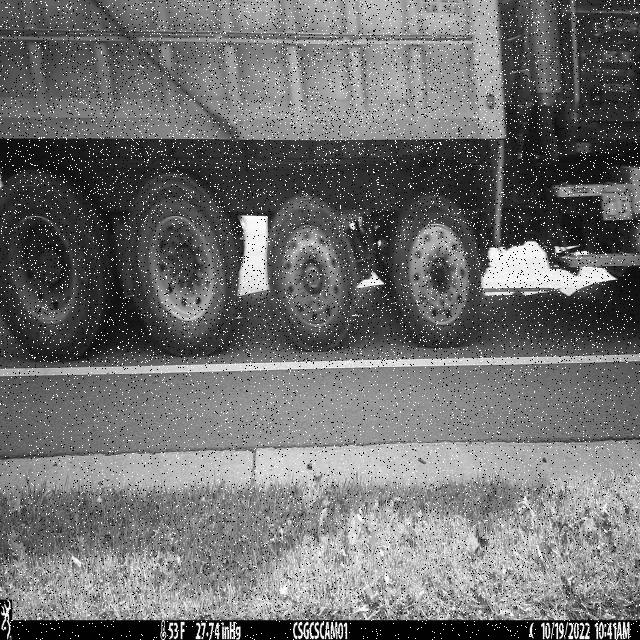Box Truck: (0, 0, 640, 363)
